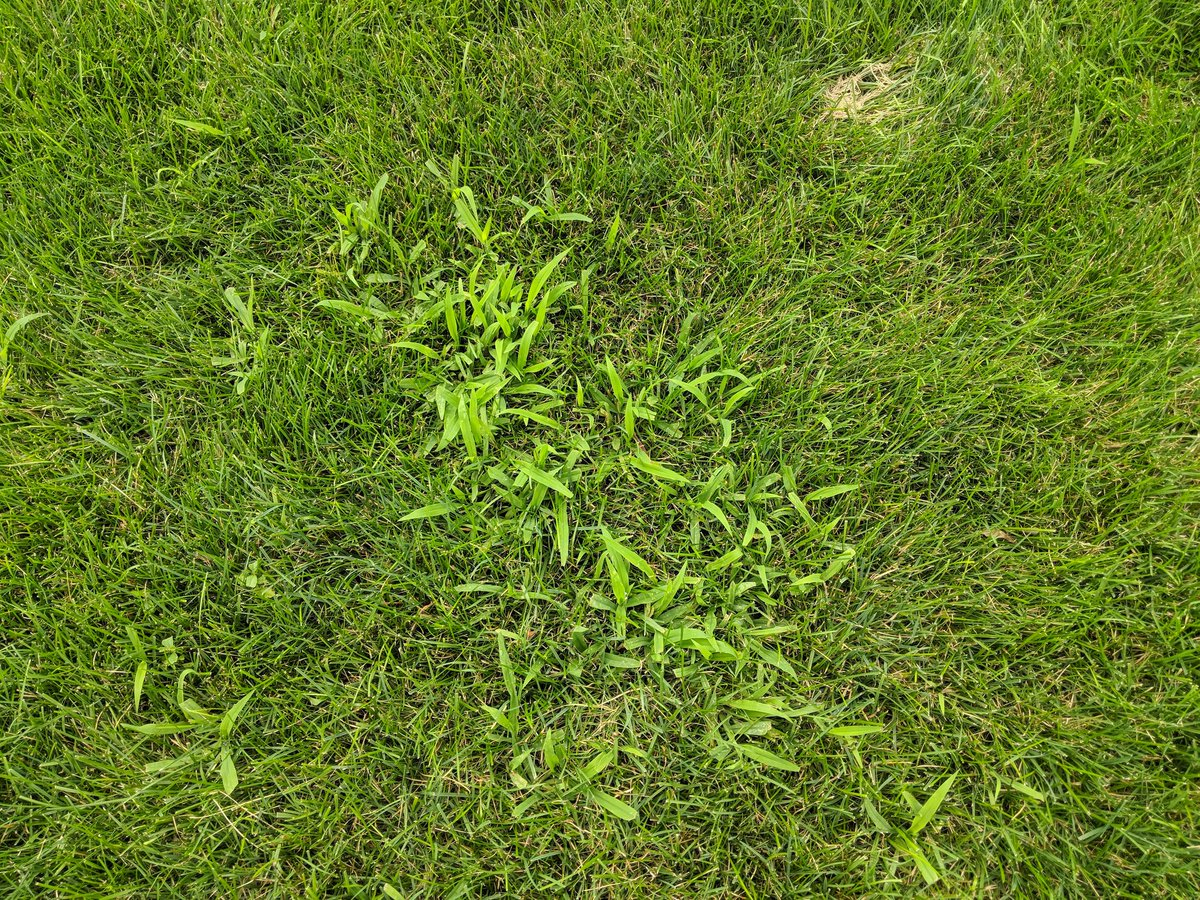crabgrass: (330, 213, 845, 710)
